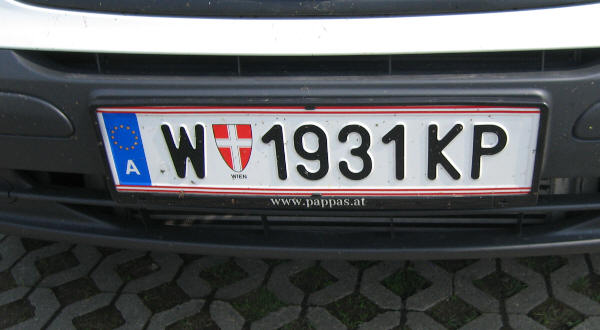license_plate: (96, 107, 546, 196)
